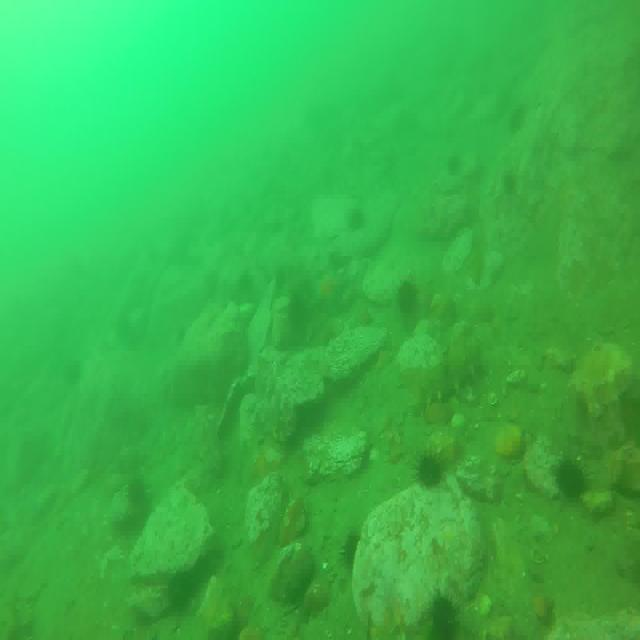echinus: (427, 593, 458, 640), (556, 458, 586, 502), (413, 449, 445, 486), (340, 529, 362, 563), (398, 278, 418, 314), (447, 153, 464, 178), (505, 168, 519, 196), (350, 203, 365, 223)
holothurian: (418, 350, 485, 406)
starfish: (315, 271, 349, 315)
